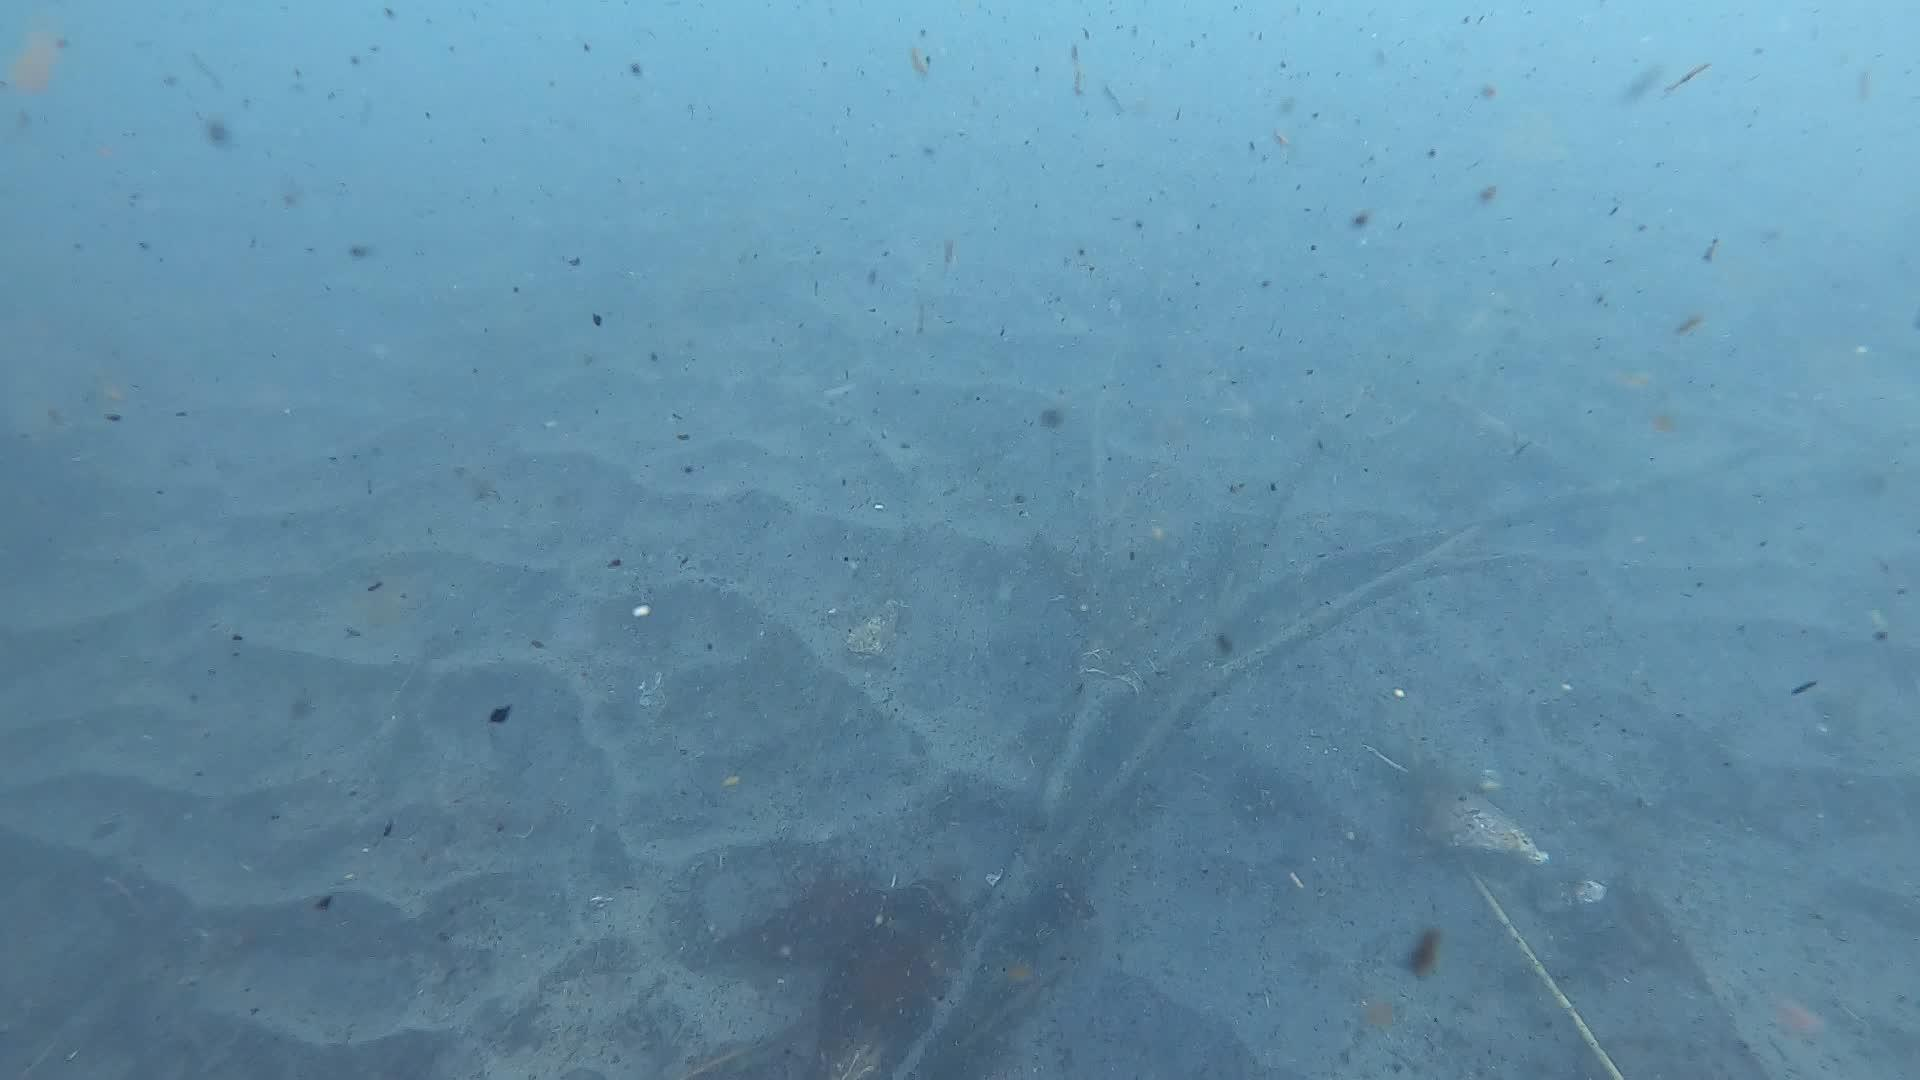wood: (882, 396, 1763, 1080)
